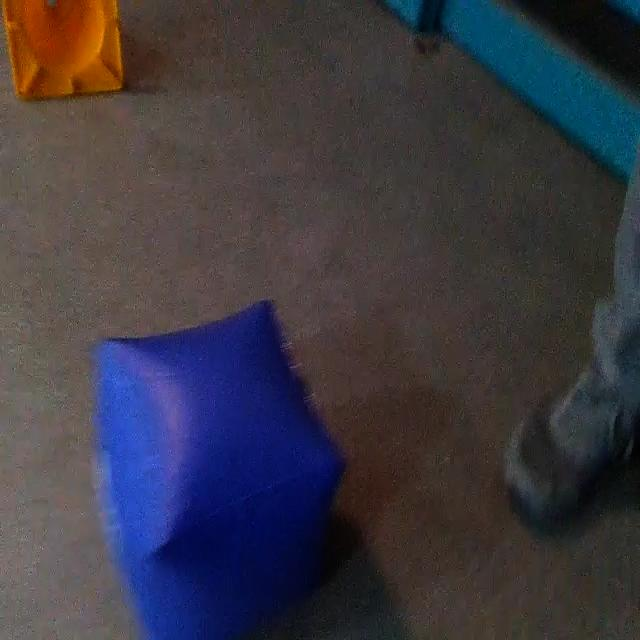cone: (4, 0, 125, 100)
cube: (92, 300, 338, 640)
